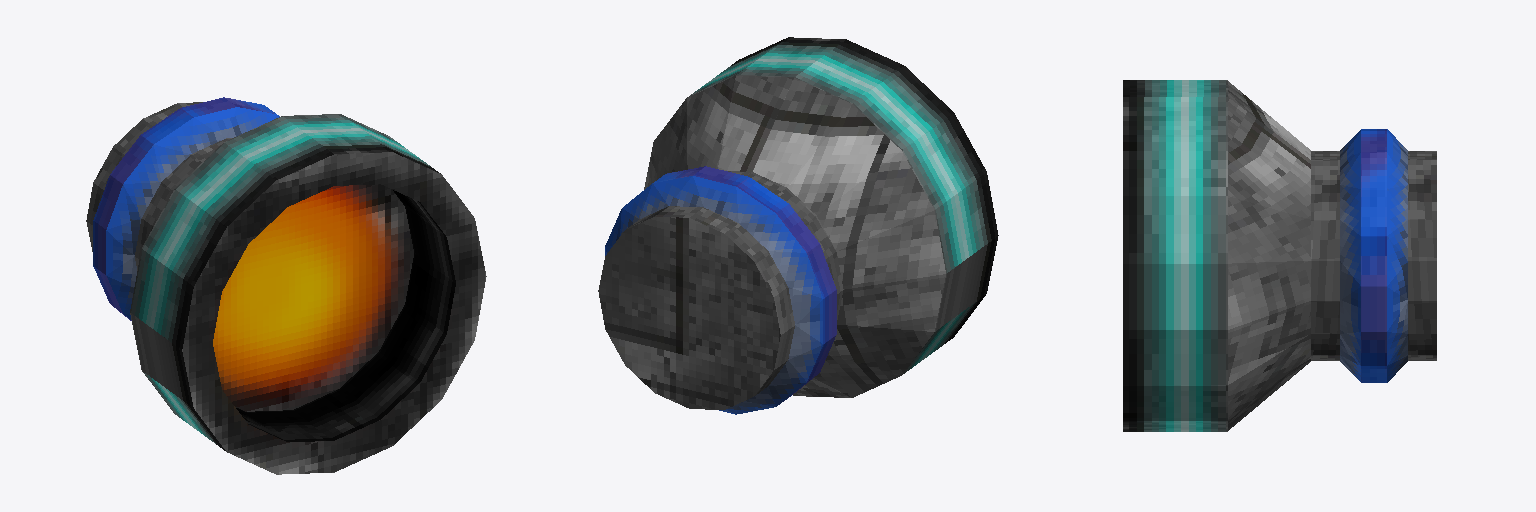
3 renders of one model, left to right at view 1: azimuth 30°, elevation 25°; view 2: azimuth 150°, elevation 25°; view 3: azimuth 270°, elevation 25°, orthographic.
Visible parts, largest first — view 1: engine_big; view 2: engine_big; view 3: engine_big.
Boxes of the visible parts, box(x1,y1,x2,y2) form: engine_big: box(86, 97, 486, 474); engine_big: box(598, 37, 998, 414); engine_big: box(1123, 80, 1436, 431).
Bounding box in the file's own units: 1.68 × 1.68 × 1.5.
1 materials, 1 textured.